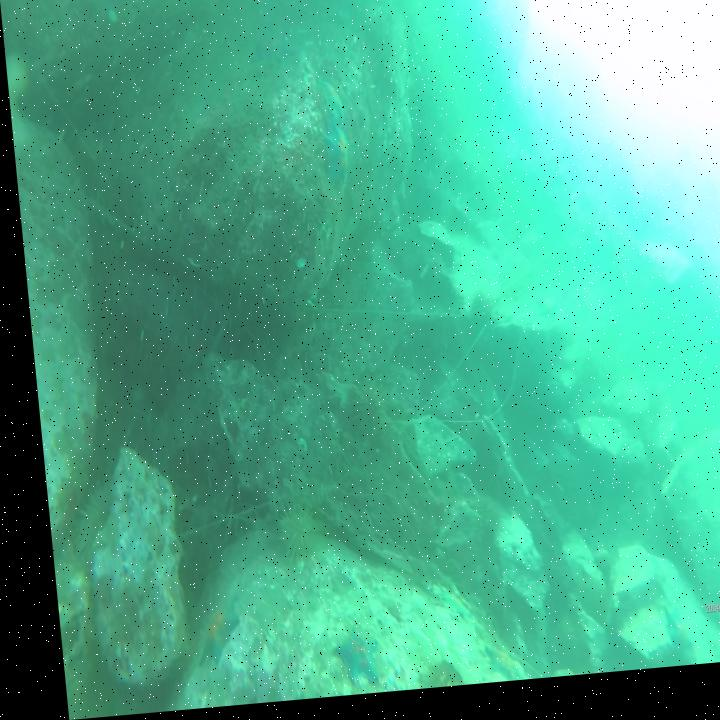echinus: (336, 377, 385, 454), (261, 501, 312, 573)
starfish: (177, 598, 238, 677), (315, 628, 372, 701), (465, 640, 533, 691), (648, 605, 689, 668), (316, 122, 347, 199), (311, 77, 343, 129), (426, 593, 466, 634), (248, 39, 291, 74)
